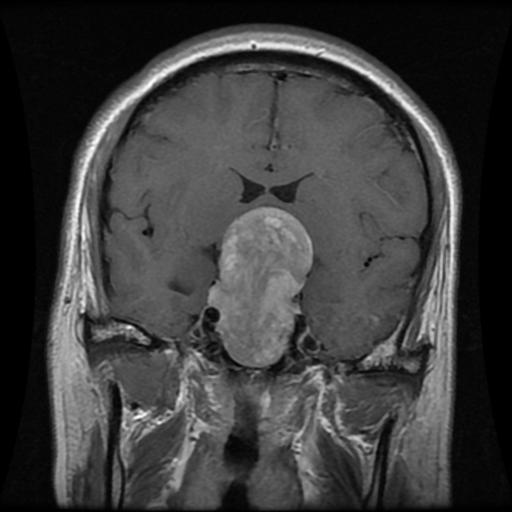Pituirity_tumour: (211, 207, 310, 362)
